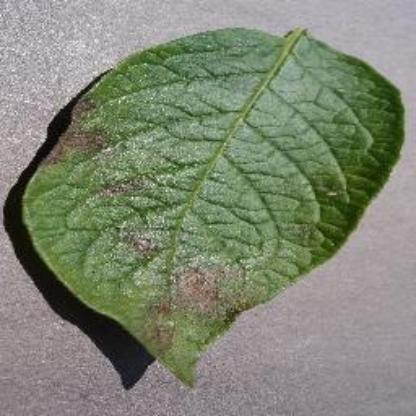Late-Blight: (9, 11, 411, 390)
